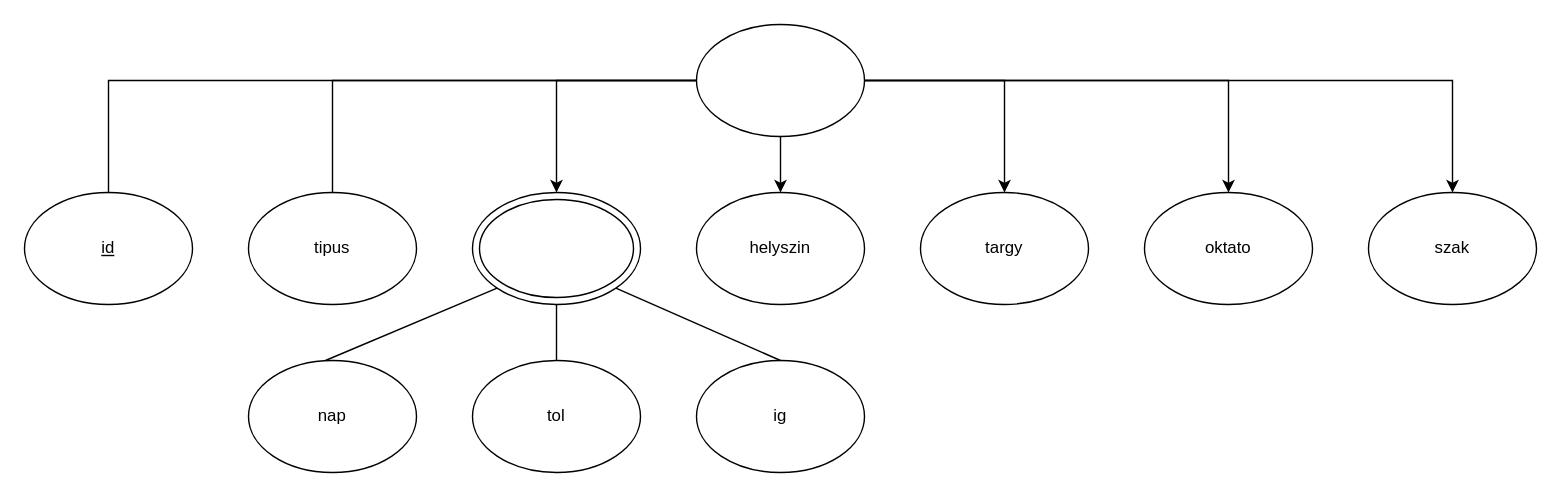
Image size: 1561x497. Some labels were removed from this diagram. Here are the shapes that lost their labels. From the top down, the centre of each, then its label:
At point 779,79: "ora".
At point 556,248: "idopont".
